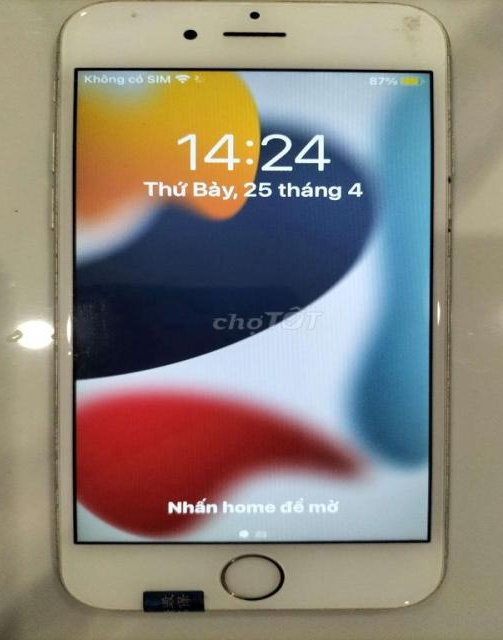scratch: (434, 238, 455, 599), (377, 6, 447, 63), (118, 0, 156, 35)
